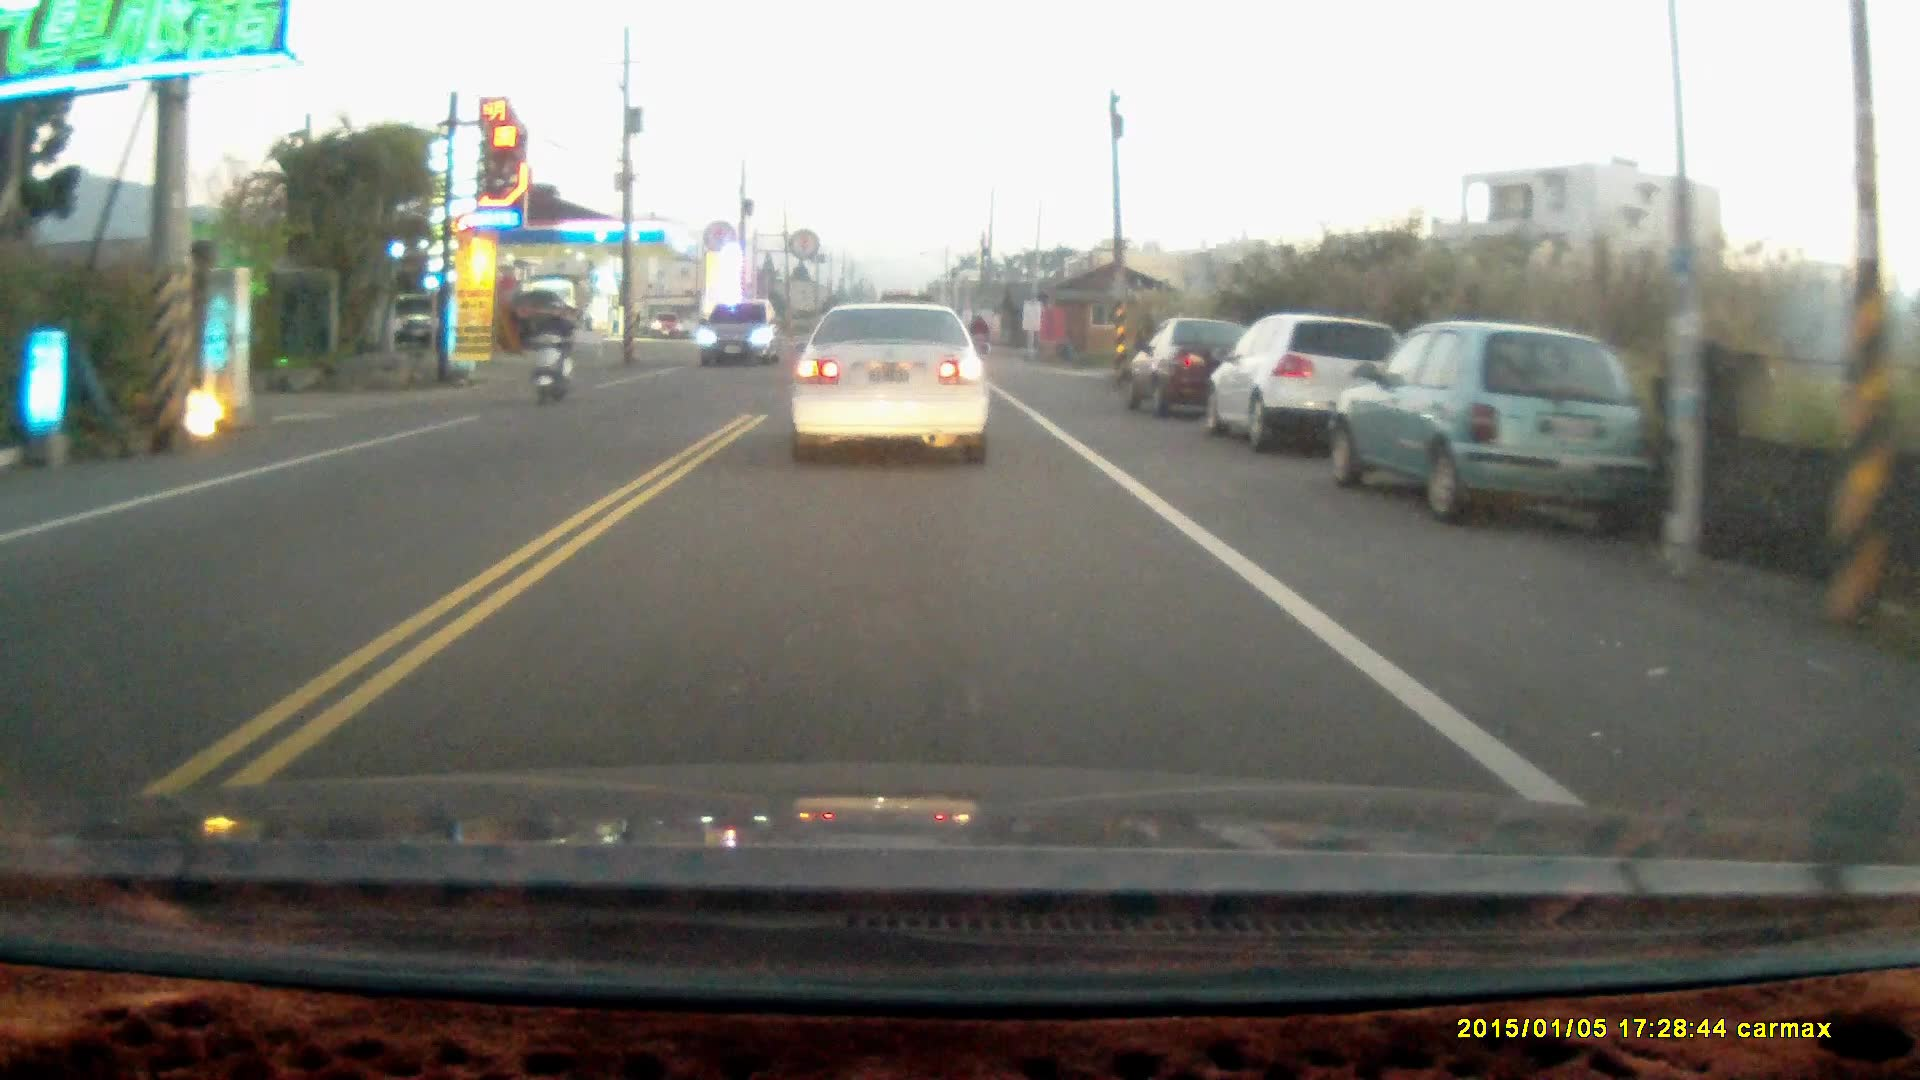rider: (526, 300, 573, 403)
vehicle: (1325, 321, 1665, 523), (789, 295, 995, 465), (1210, 313, 1402, 457), (1130, 313, 1256, 415), (699, 303, 784, 365)
